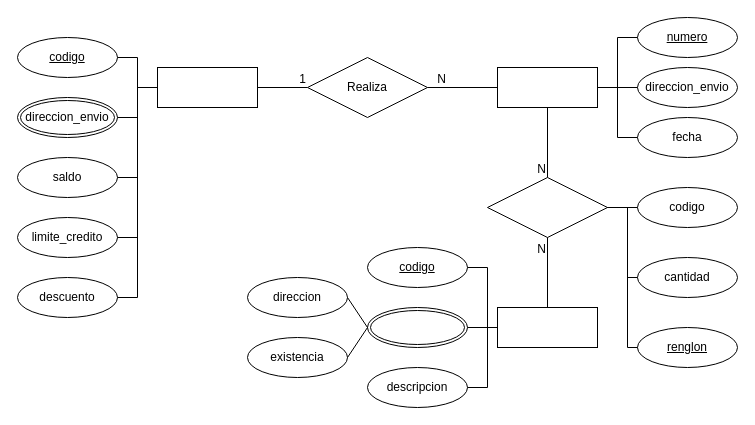
Image size: 755x425. Some labels were removed from this diagram. Here are the shapes that lost their labels. From the top down, the centre of each, then its label:
(207,87): cliente
(547,87): pedido
(547,207): Tiene
(417,327): plantas
(547,327): articulo
